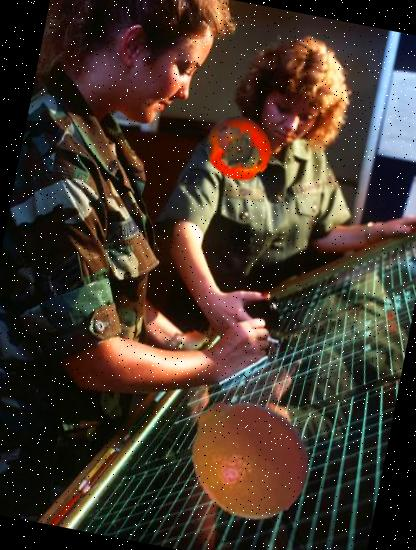Kaki: (200, 108, 279, 188)
Tangelo: (171, 382, 323, 534)
